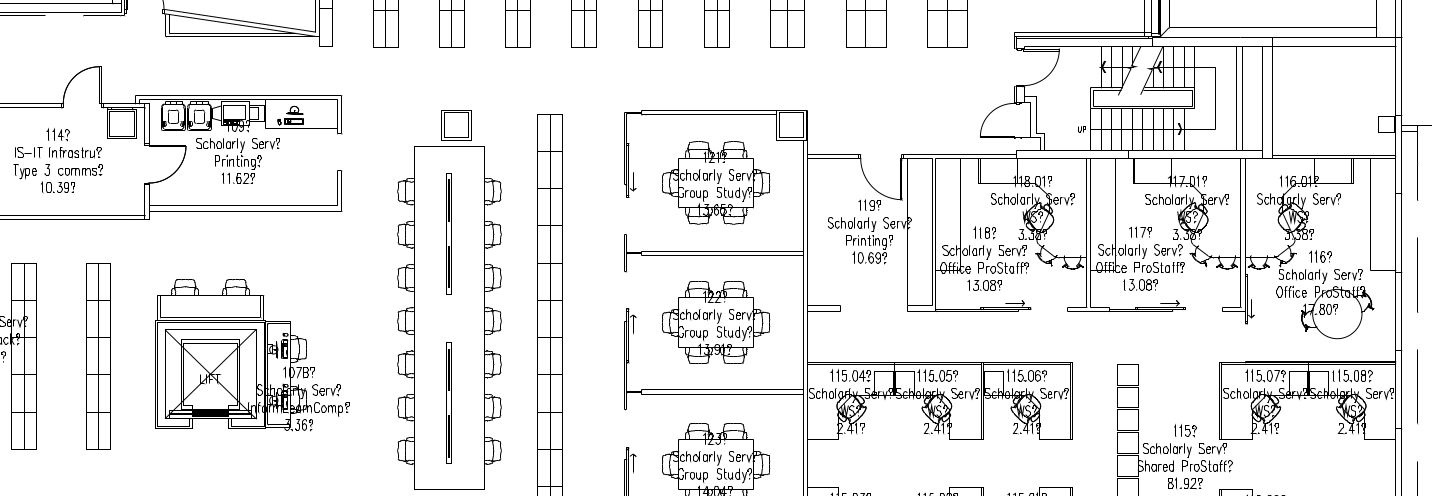door: (858, 158, 907, 203), (143, 140, 192, 185), (58, 62, 107, 107), (1018, 46, 1062, 88), (971, 101, 1015, 143)
